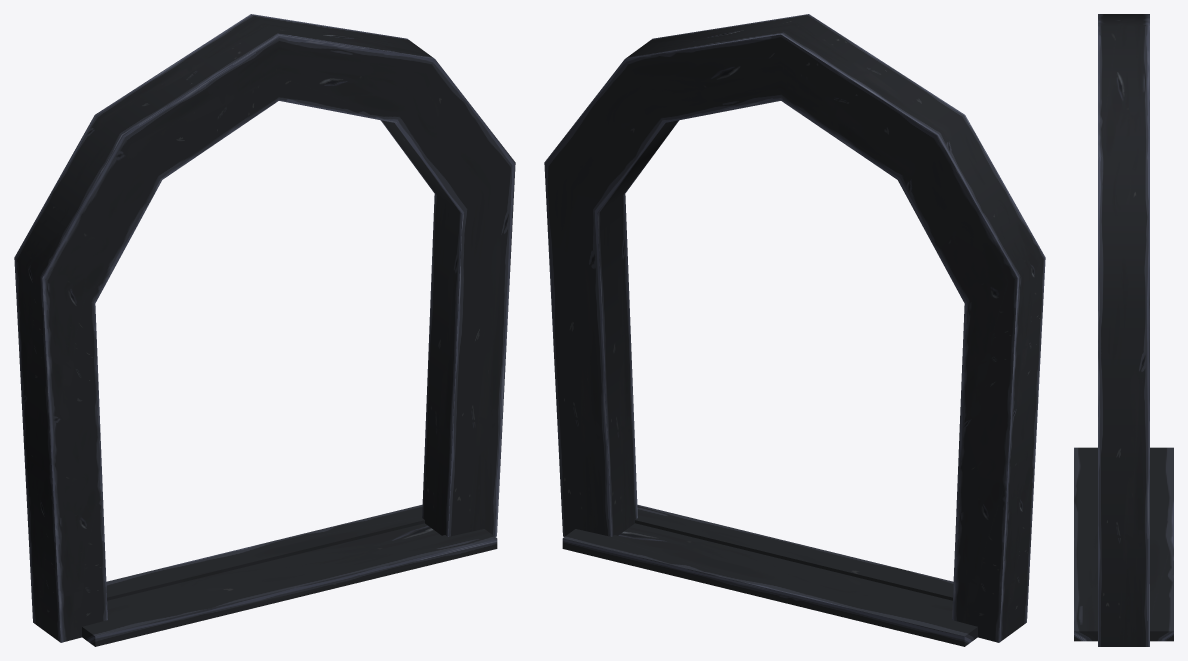
Rendered from MOD_Gateway_Door_01_med_02.fbx.
3 renders of one model, left to right at view 1: azimuth 30°, elevation 25°; view 2: azimuth 150°, elevation 25°; view 3: azimuth 270°, elevation 25°, orthographic. The views are drawn at different scales.
Parts seen in each view (by area): view 1: MOD_Gateway_Door_01_med_02; view 2: MOD_Gateway_Door_01_med_02; view 3: MOD_Gateway_Door_01_med_02.
Part boxes in pixels (box(x1,y1,x2,y2)): MOD_Gateway_Door_01_med_02: box(14, 14, 515, 646); MOD_Gateway_Door_01_med_02: box(544, 14, 1045, 646); MOD_Gateway_Door_01_med_02: box(1074, 14, 1173, 646).
Size of what is drawn, in the model's own units: 353 by 396 by 68.79.
